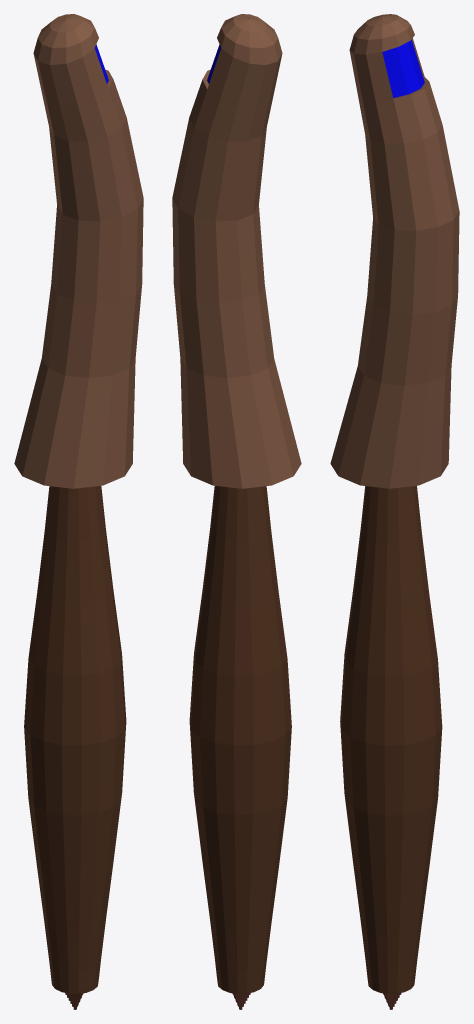
The model's file is Wand 144.glb.
3 renders of one model, left to right at view 1: azimuth 30°, elevation 25°; view 2: azimuth 150°, elevation 25°; view 3: azimuth 330°, elevation 25°, orthographic.
Parts seen in each view (by area): view 1: GeneratedWand; view 2: GeneratedWand; view 3: GeneratedWand.
Part boxes in pixels (left/top/right/bottom): GeneratedWand: left=14, top=14, right=143, bottom=1009; GeneratedWand: left=172, top=14, right=301, bottom=1009; GeneratedWand: left=330, top=14, right=459, bottom=1009.
Size of the model in its own units: 0.0644 by 0.528 by 0.0572.
